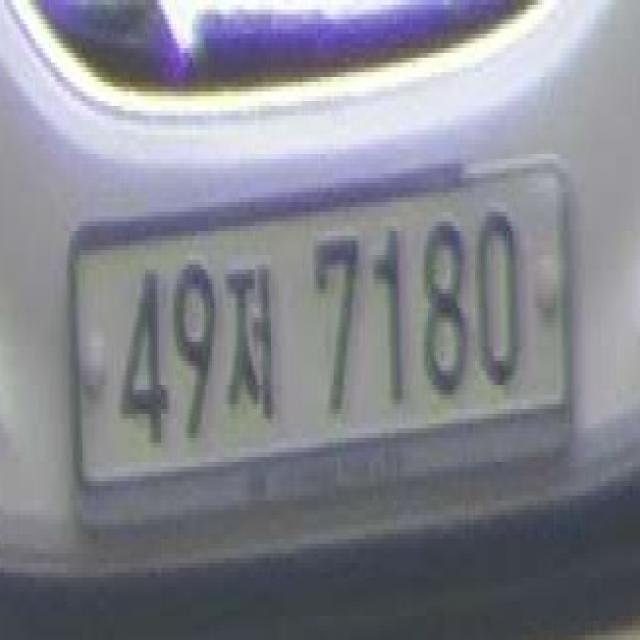0: (476, 198, 521, 401)
1: (367, 218, 408, 419)
4: (114, 256, 170, 479)
7: (308, 217, 362, 432)
8: (413, 215, 473, 413)
9: (171, 254, 220, 462)
jeo: (224, 251, 280, 442)
license_plate: (54, 117, 593, 549)
